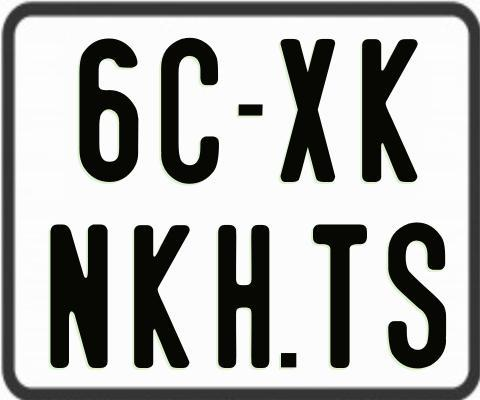6: (77, 37, 141, 186)
C: (159, 37, 222, 185)
H: (216, 225, 268, 370)
K: (359, 36, 416, 182), (131, 222, 187, 367)
N: (49, 221, 110, 365)
S: (388, 222, 450, 369)
T: (313, 224, 371, 374)
X: (277, 38, 334, 187)
